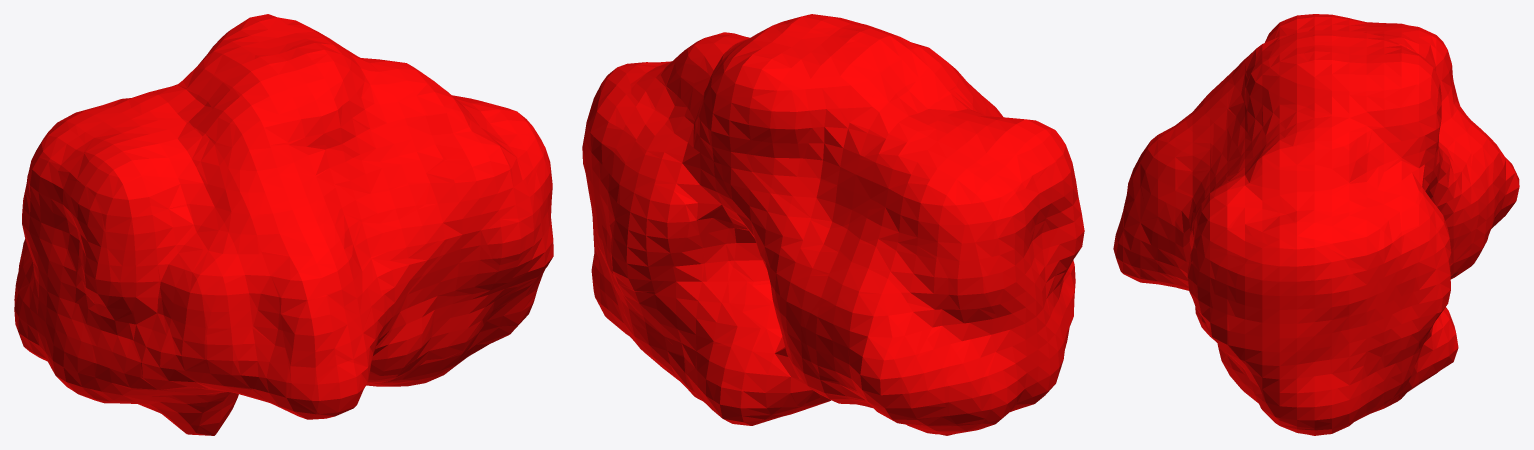
File: gldA_coarse.dae
The picture shows the model from 3 angles, left to right: view 1: azimuth 30°, elevation 25°; view 2: azimuth 150°, elevation 25°; view 3: azimuth 270°, elevation 25°; orthographic projection. The views are drawn at different scales.
Parts seen in each view (by area): view 1: gldA; view 2: gldA; view 3: gldA.
Boxes of the visible parts, x1,y1,x2,y2 form: gldA: [14, 14, 553, 435]; gldA: [582, 14, 1084, 435]; gldA: [1113, 14, 1519, 435].
Size of the model in its own units: 64.31 by 47.73 by 53.53.
